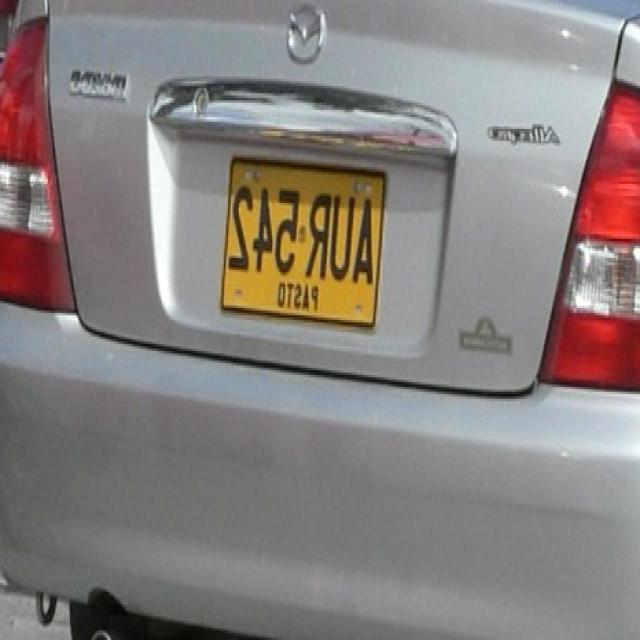placas: (225, 175, 381, 296)
